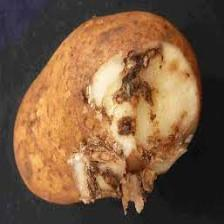Diseased-fungal potato: (12, 10, 202, 210)
